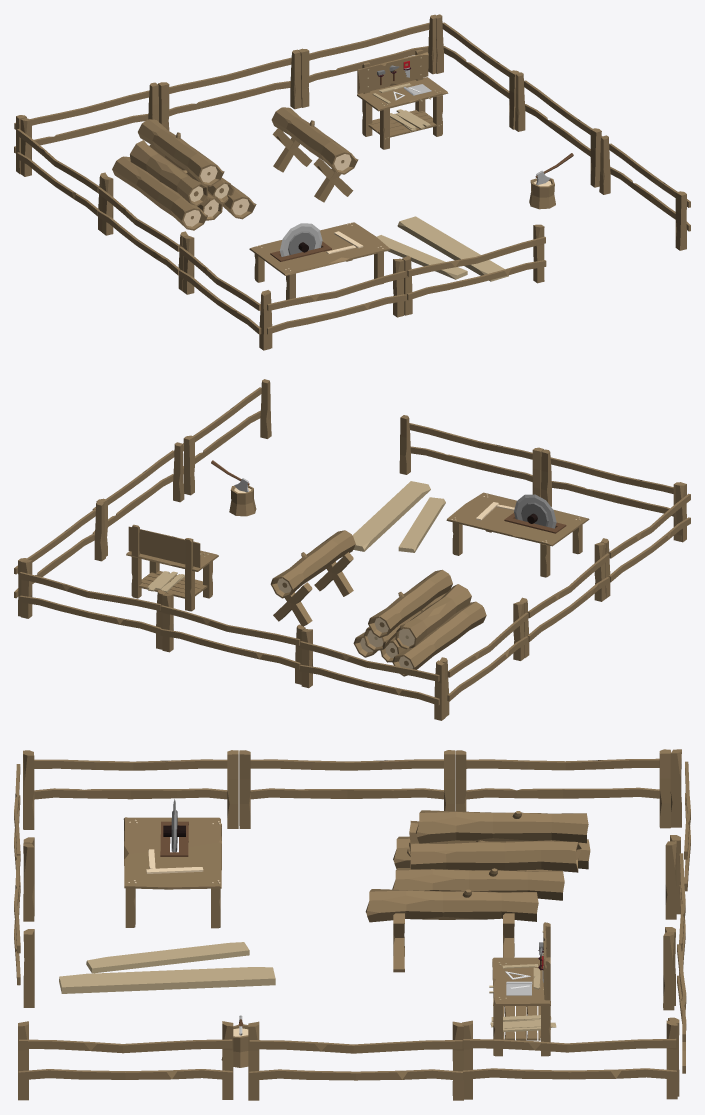
File: Aserradero.fbx
The picture shows the model from 3 angles, top to bottom: view 1: azimuth 30°, elevation 25°; view 2: azimuth 150°, elevation 25°; view 3: azimuth 270°, elevation 25°; orthographic projection. The views are drawn at different scales.
Visible parts, largest first — view 1: Plane.002; view 2: Plane.002; view 3: Plane.002.
Boxes of the visible parts, x1,y1,x2,y2 form: Plane.002: [14, 14, 690, 350]; Plane.002: [14, 379, 690, 720]; Plane.002: [14, 749, 690, 1100].
Bounding box in the file's own units: 9.03 × 1.44 × 9.08.
